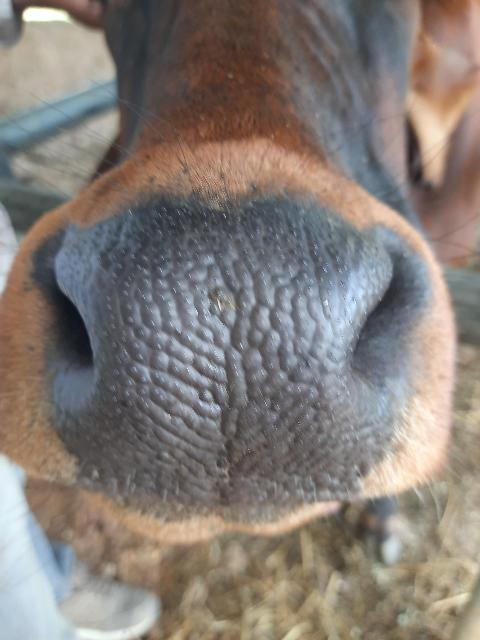Muzzle: (77, 249, 353, 493)
